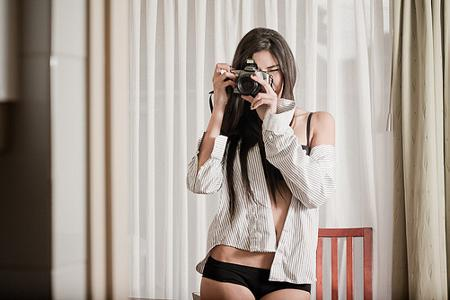person: (186, 28, 338, 299)
